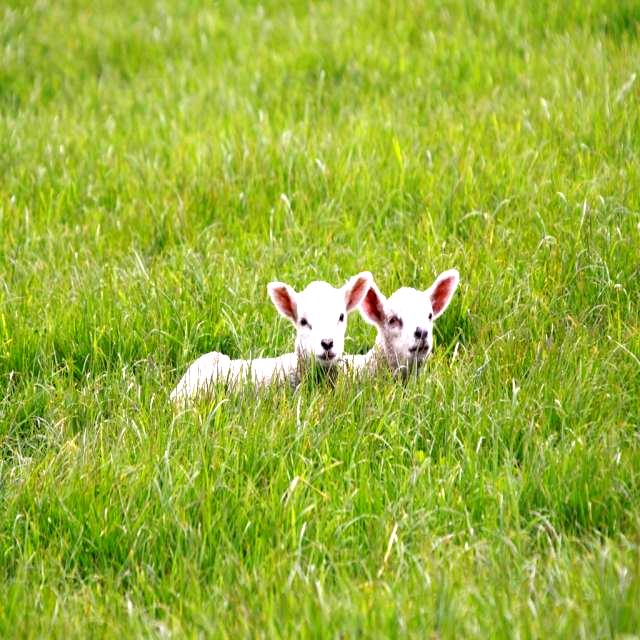sheep: (170, 272, 370, 406), (343, 269, 458, 377)
